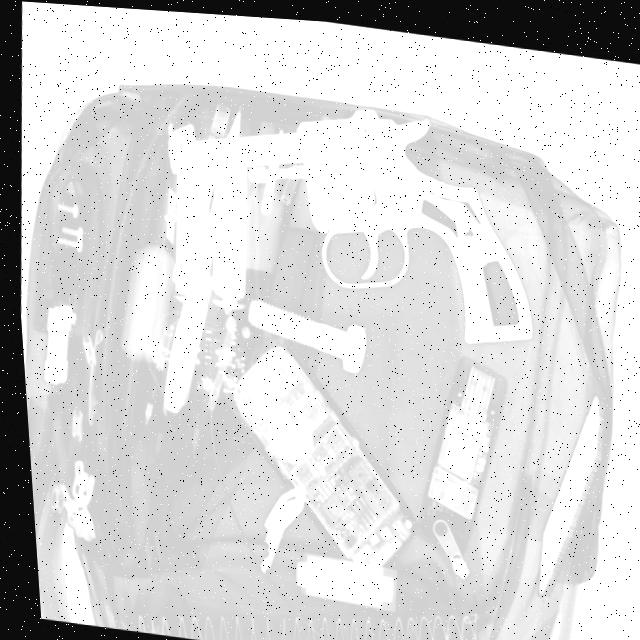grenade: (152, 306, 439, 603)
